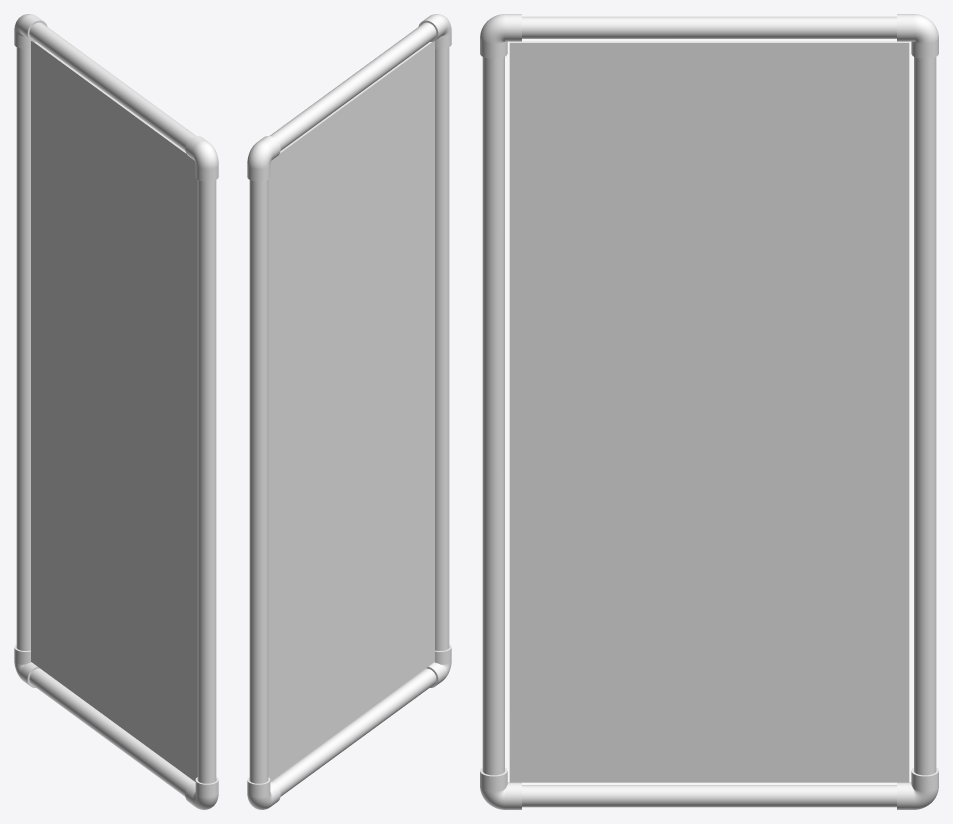
Rendered from Bouée2019.fbx.
3 views of the same model, side by side, from view 1: azimuth 30°, elevation 25°; view 2: azimuth 150°, elevation 25°; view 3: azimuth 270°, elevation 25° (orthographic). The views are drawn at different scales.
Visible parts, largest first — view 1: 3DGeom-29, Body_1_3, Body_1_10, Body_1, Body_1_5, Body_1_2, Body_1_4, Body_1_6, Body_1_8; view 2: 3DGeom-29, Body_1_10, Body_1_3, Body_1, Body_1_5, Body_1_6, Body_1_8, Body_1_2, Body_1_4; view 3: 3DGeom-28, Body_1_3, Body_1_10, Body_1, Body_1_5, Body_1_6, Body_1_2, Body_1_4, Body_1_8.
Part boxes in pixels (x1,y1,x2,y2): 3DGeom-29: [31, 41, 197, 781]; Body_1_3: [197, 180, 216, 783]; Body_1_10: [16, 47, 30, 650]; Body_1: [29, 22, 195, 150]; Body_1_5: [29, 668, 194, 796]; Body_1_2: [185, 136, 218, 181]; Body_1_4: [185, 777, 218, 809]; Body_1_6: [14, 14, 47, 48]; Body_1_8: [14, 644, 39, 687]; 3DGeom-29: [268, 41, 434, 781]; Body_1_10: [249, 180, 268, 783]; Body_1_3: [435, 47, 449, 650]; Body_1: [270, 22, 436, 150]; Body_1_5: [271, 668, 436, 796]; Body_1_6: [247, 136, 280, 181]; Body_1_8: [247, 777, 280, 809]; Body_1_2: [418, 14, 451, 48]; Body_1_4: [426, 644, 451, 687]; 3DGeom-28: [509, 43, 909, 782]; Body_1_3: [482, 57, 504, 775]; Body_1_10: [914, 57, 936, 775]; Body_1: [522, 16, 896, 38]; Body_1_5: [522, 785, 896, 807]; Body_1_6: [897, 14, 938, 58]; Body_1_2: [480, 14, 521, 58]; Body_1_4: [480, 767, 521, 809]; Body_1_8: [897, 767, 938, 809].
Size of the model in its own units: 0.0413 by 0.6858 by 1.31.
